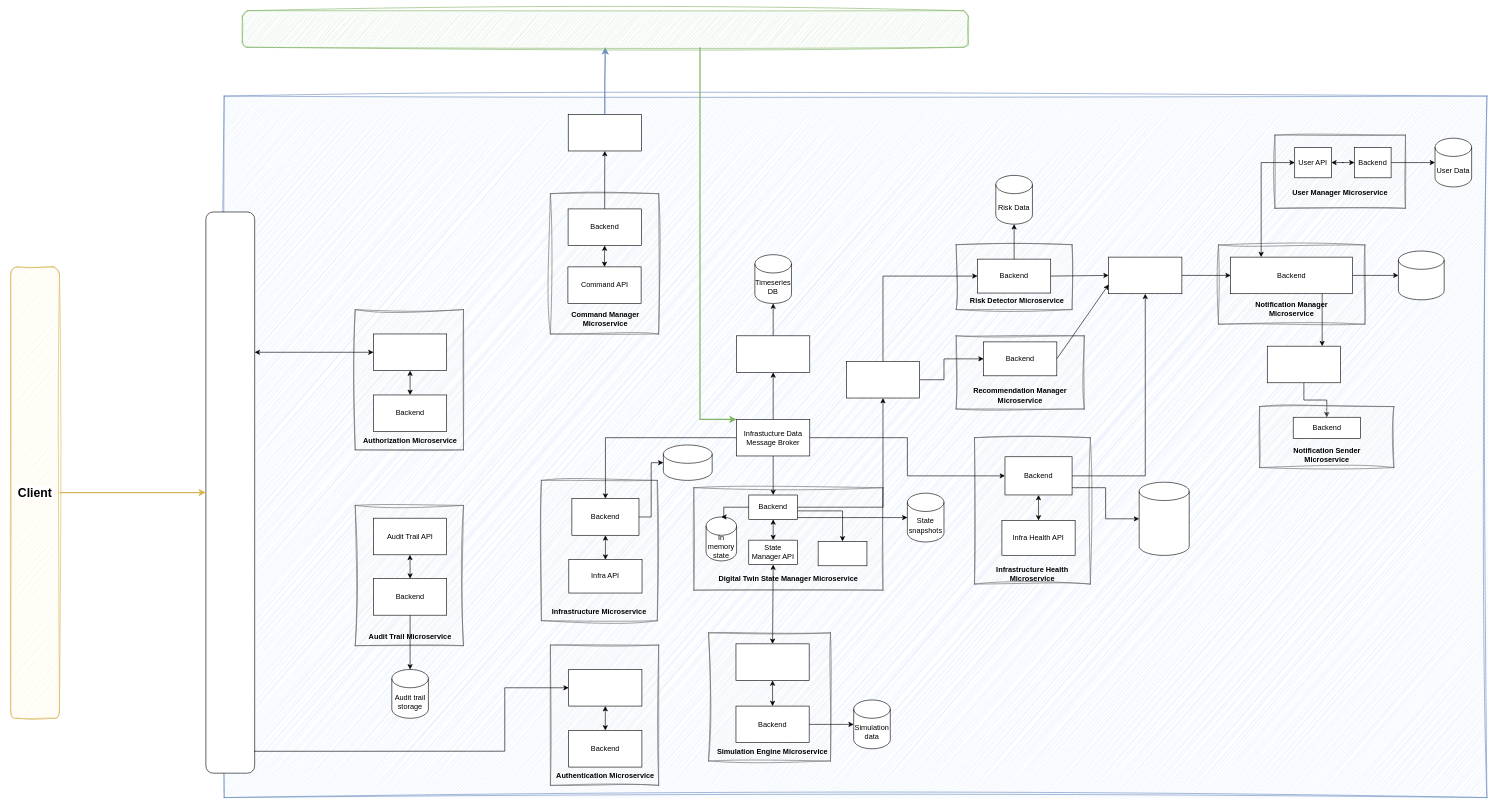
Some shapes in this 1498 by 808 pixel diagram are drawn without their labels. Here are the shapes that lost their labels. From the top down, the centre of each, then its label:
At [605,28]: "INFRASTRUCTURE".
At [604,132]: "Command Broker".
At [1145,275]: "Notifications Topic".
At [1421,275]: "Notifications".
At [410,352]: "Authorization API".
At [773,353]: "Data Ingestion".
At [1303,364]: "Notifications Queue Microservice".
At [883,379]: "DT State Topic".
At [687,462]: "Infrastructure Data".
At [230,492]: "API GATEWAY".
At [1164,518]: "Infrastructure Health Data".
At [842,553]: "WebSocket".
At [772,661]: "Simulation API".
At [605,687]: "Authentication API".
